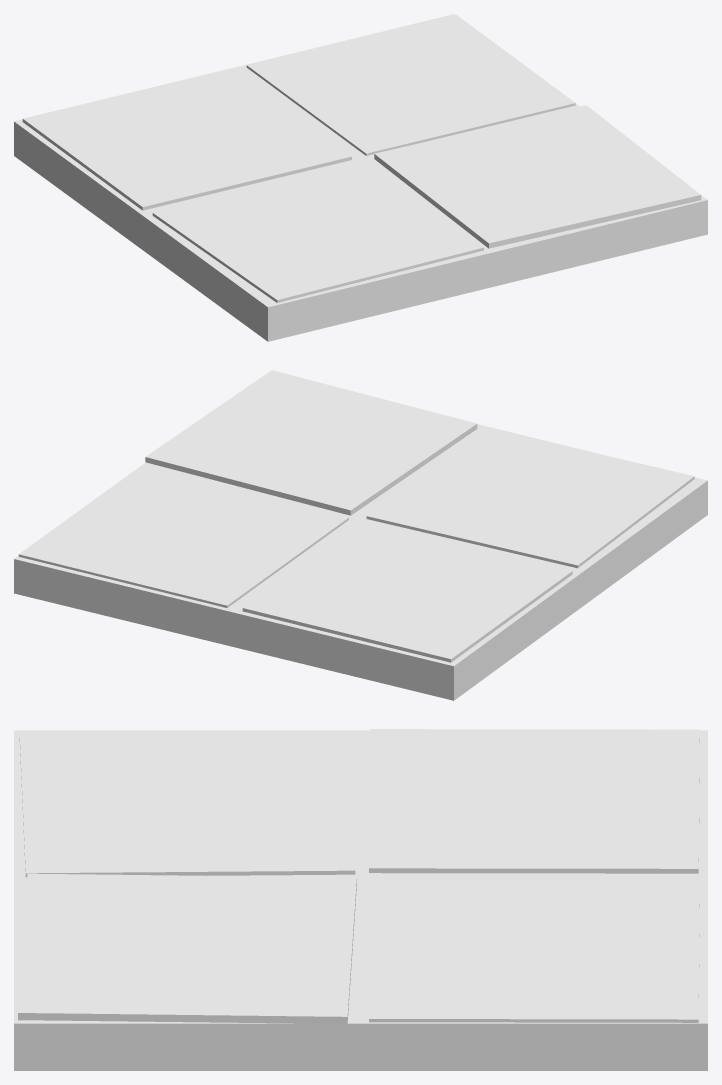
The model's file is floor.glb.
3 renders of one model, top to bottom at view 1: azimuth 30°, elevation 25°; view 2: azimuth 150°, elevation 25°; view 3: azimuth 270°, elevation 25°, orthographic. The views are drawn at different scales.
Parts seen in each view (by area): view 1: Floor; view 2: Floor; view 3: Floor.
Boxes of the visible parts, x1,y1,x2,y2 form: Floor: [14, 14, 707, 341]; Floor: [14, 370, 707, 700]; Floor: [14, 729, 707, 1070].
Bounding box in the file's own units: 4.01 × 0.3461 × 4.
Materials: 1 (1 with a texture image).
